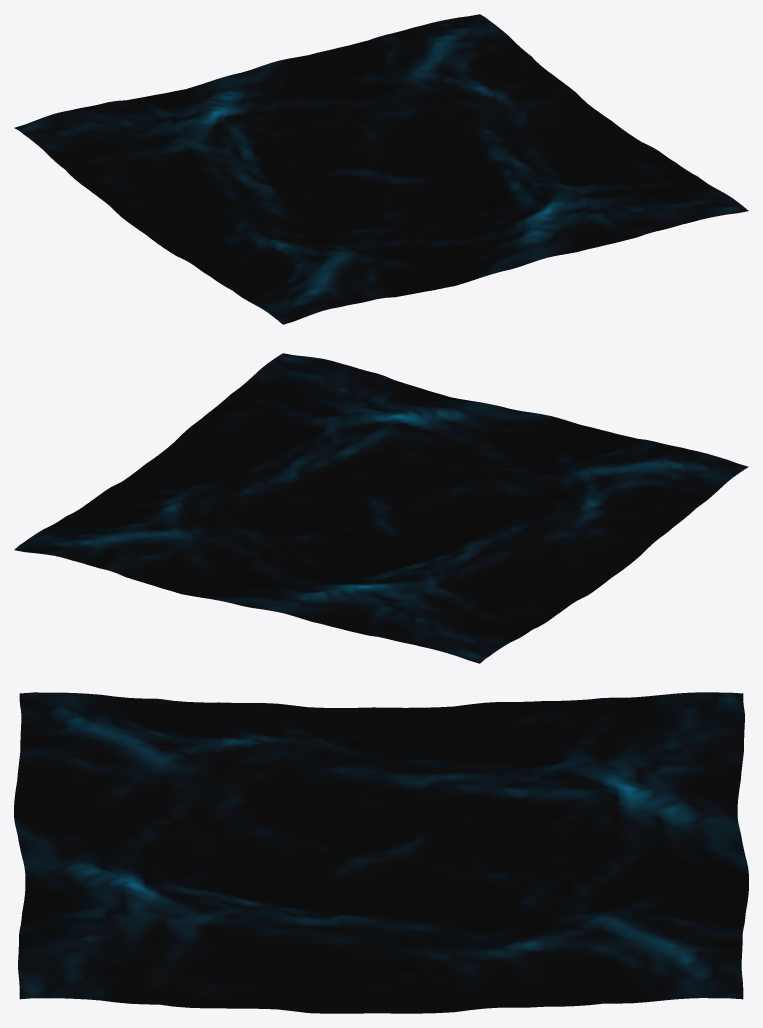
File: Sea(7).glb
3 views of the same model, one above another, from view 1: azimuth 30°, elevation 25°; view 2: azimuth 150°, elevation 25°; view 3: azimuth 270°, elevation 25° (orthographic). The views are drawn at different scales.
Visible parts, largest first — view 1: Sea; view 2: Sea; view 3: Sea.
Boxes of the visible parts, <box> form: Sea: <box>14,14,748,324</box>; Sea: <box>14,353,748,663</box>; Sea: <box>14,692,748,1013</box>.
Size of the model in its own units: 50.27 by 1.88 by 50.79.
